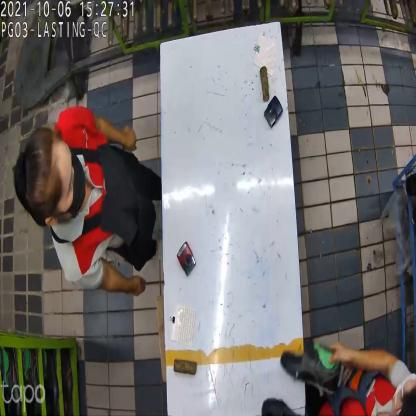stamp: (174, 245, 198, 276), (263, 95, 284, 129)
